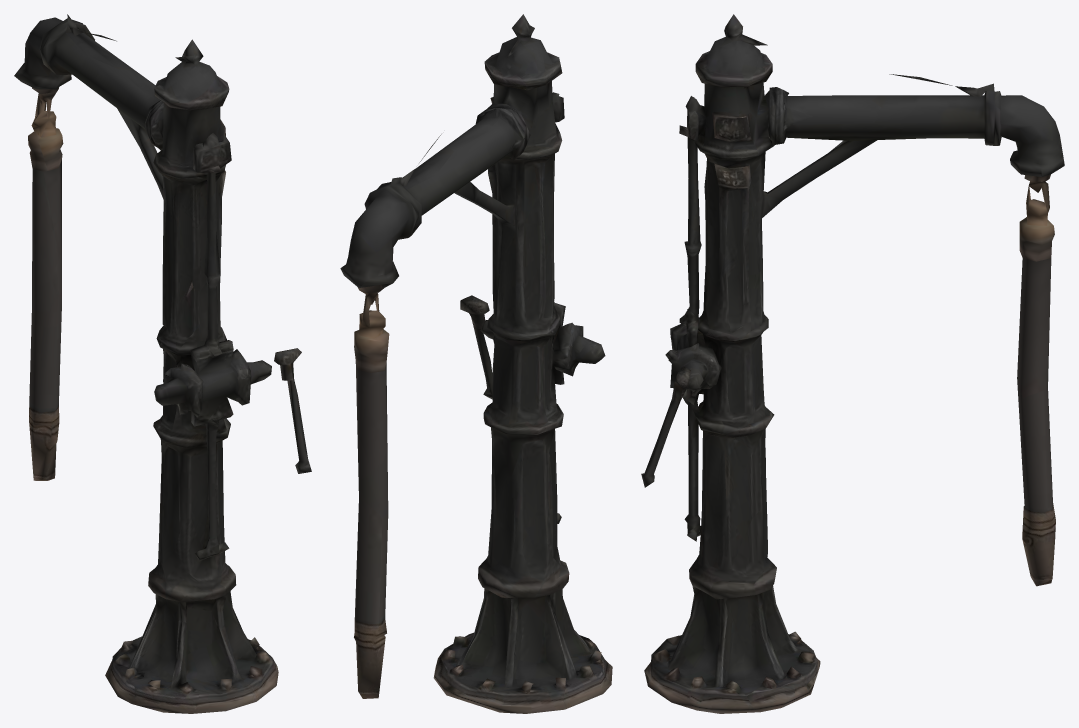
The model's file is prop_water_crane.glb.
3 views of the same model, side by side, from view 1: azimuth 30°, elevation 25°; view 2: azimuth 150°, elevation 25°; view 3: azimuth 270°, elevation 25° (orthographic). The views are drawn at different scales.
Parts seen in each view (by area): view 1: tripo_node_82f23edb-caf9-441b-995c-916baf1e69a0; view 2: tripo_node_82f23edb-caf9-441b-995c-916baf1e69a0; view 3: tripo_node_82f23edb-caf9-441b-995c-916baf1e69a0.
Part boxes in pixels (<box>): tripo_node_82f23edb-caf9-441b-995c-916baf1e69a0: <box>14,14,311,713</box>; tripo_node_82f23edb-caf9-441b-995c-916baf1e69a0: <box>340,14,612,713</box>; tripo_node_82f23edb-caf9-441b-995c-916baf1e69a0: <box>641,14,1064,713</box>.
Bounding box in the file's own units: 0.2604 × 1 × 0.58.
Materials: 1 (1 with a texture image).
